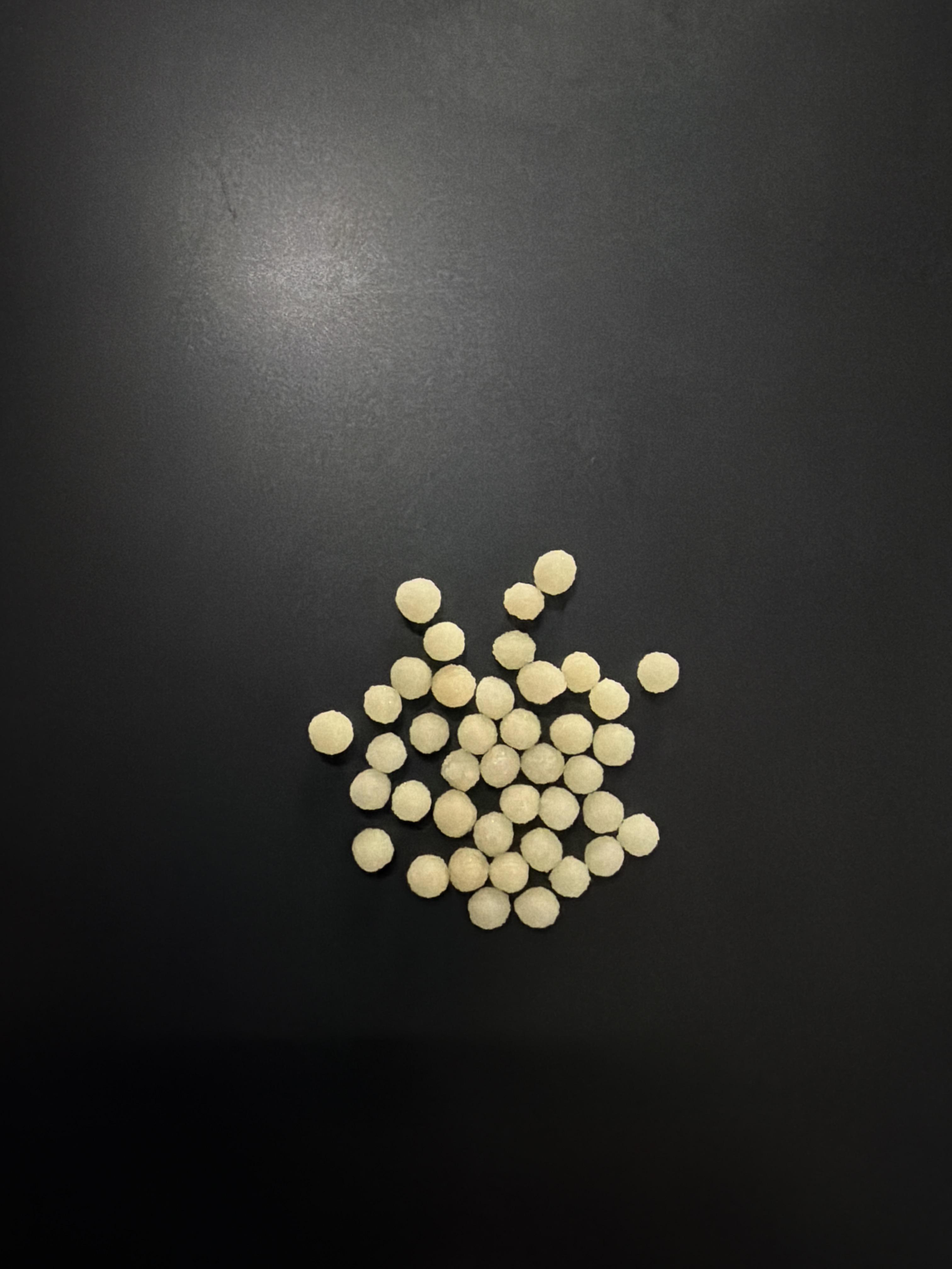pill: (433, 789, 477, 838), (395, 578, 441, 624), (517, 661, 565, 704), (308, 711, 353, 755), (519, 827, 562, 872), (431, 664, 475, 707), (534, 550, 576, 595), (513, 887, 559, 928), (473, 811, 514, 857), (616, 813, 659, 856), (468, 886, 511, 929), (407, 854, 449, 898), (352, 828, 394, 872), (448, 847, 488, 893), (550, 713, 593, 755), (390, 656, 432, 699), (583, 790, 624, 834), (499, 708, 541, 750), (593, 723, 634, 766), (539, 787, 579, 831), (520, 744, 564, 784), (549, 856, 590, 898), (637, 652, 679, 693), (391, 780, 432, 822), (350, 768, 391, 810), (366, 732, 407, 774), (457, 713, 497, 756), (480, 744, 519, 788), (492, 631, 536, 670), (589, 679, 630, 720), (423, 621, 465, 661), (489, 851, 528, 894), (475, 677, 514, 720), (500, 783, 540, 824), (561, 651, 600, 693), (563, 755, 603, 795), (409, 713, 449, 753), (585, 836, 624, 877), (441, 750, 479, 792), (364, 685, 402, 724), (504, 583, 544, 620)
